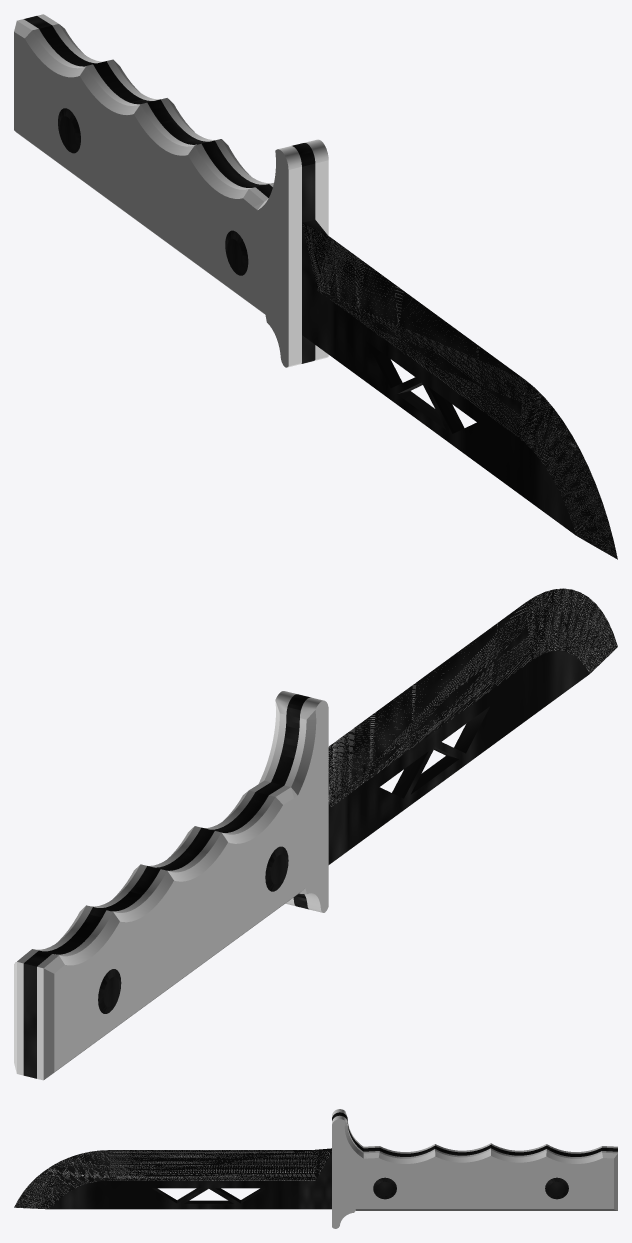
File: model_scale.obj
3 renders of one model, top to bottom at view 1: azimuth 30°, elevation 25°; view 2: azimuth 150°, elevation 25°; view 3: azimuth 270°, elevation 25°, orthographic. The views are drawn at different scales.
Parts seen in each view (by area): view 1: mesh5_mesh5-geometry, mesh7_mesh7-geometry, mesh1_mesh1-geometry, mesh6_mesh6-geometry, mesh2_mesh2-geometry, mesh3_mesh3-geometry, mesh4_mesh4-geometry; view 2: mesh5_mesh5-geometry, mesh7_mesh7-geometry, mesh1_mesh1-geometry, mesh6_mesh6-geometry, mesh2_mesh2-geometry, mesh3_mesh3-geometry, mesh4_mesh4-geometry; view 3: mesh5_mesh5-geometry, mesh6_mesh6-geometry, mesh2_mesh2-geometry, mesh7_mesh7-geometry, mesh3_mesh3-geometry, mesh4_mesh4-geometry.
Part boxes in pixels (x1=…): mesh5_mesh5-geometry: x1=24, y1=16, x2=617, y2=559; mesh7_mesh7-geometry: x1=14, y1=19, x2=268, y2=311; mesh1_mesh1-geometry: x1=257, y1=146, x2=301, y2=367; mesh6_mesh6-geometry: x1=37, y1=14, x2=273, y2=186; mesh2_mesh2-geometry: x1=304, y1=139, x2=328, y2=360; mesh3_mesh3-geometry: x1=225, y1=230, x2=248, y2=275; mesh4_mesh4-geometry: x1=58, y1=108, x2=80, y2=153; mesh5_mesh5-geometry: x1=23, y1=588, x2=617, y2=1078; mesh7_mesh7-geometry: x1=37, y1=785, x2=297, y2=1080; mesh1_mesh1-geometry: x1=284, y1=697, x2=328, y2=912; mesh6_mesh6-geometry: x1=14, y1=780, x2=270, y2=1075; mesh2_mesh2-geometry: x1=258, y1=691, x2=297, y2=906; mesh3_mesh3-geometry: x1=265, y1=846, x2=288, y2=891; mesh4_mesh4-geometry: x1=98, y1=969, x2=121, y2=1013; mesh5_mesh5-geometry: x1=14, y1=1112, x2=617, y2=1209; mesh6_mesh6-geometry: x1=363, y1=1148, x2=617, y2=1210; mesh2_mesh2-geometry: x1=332, y1=1115, x2=363, y2=1228; mesh7_mesh7-geometry: x1=363, y1=1143, x2=617, y2=1153; mesh3_mesh3-geometry: x1=373, y1=1177, x2=396, y2=1199; mesh4_mesh4-geometry: x1=545, y1=1177, x2=568, y2=1199.
Size of the model in its own units: 0.0104 by 0.0486 by 0.2421.
